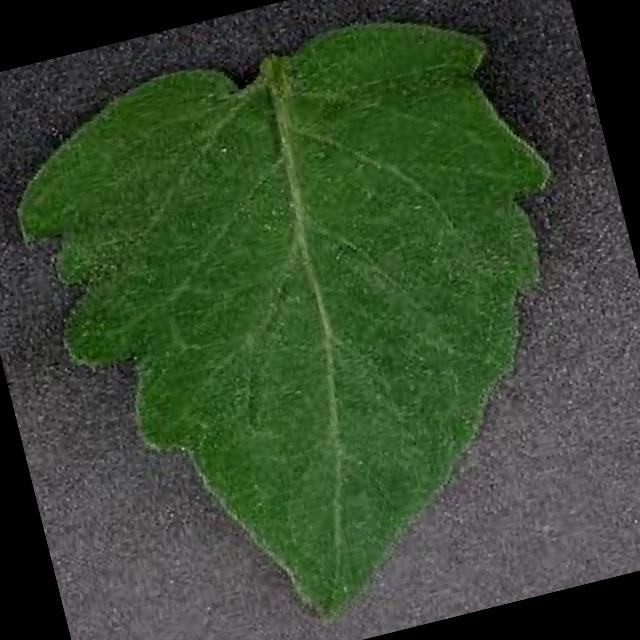healthy: (19, 19, 554, 619)
